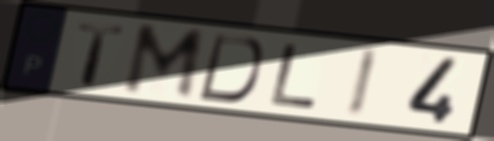4: (402, 53, 463, 128)
D: (194, 31, 266, 105)
I: (343, 45, 383, 120)
L: (267, 41, 323, 111)
M: (118, 22, 209, 103)
T: (75, 20, 129, 88)
